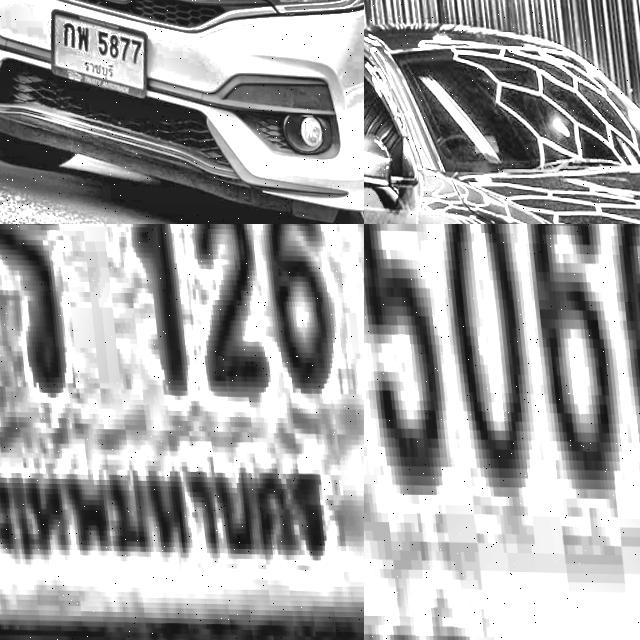license-plate: (0, 224, 364, 640), (364, 224, 640, 640), (36, 5, 144, 103)
